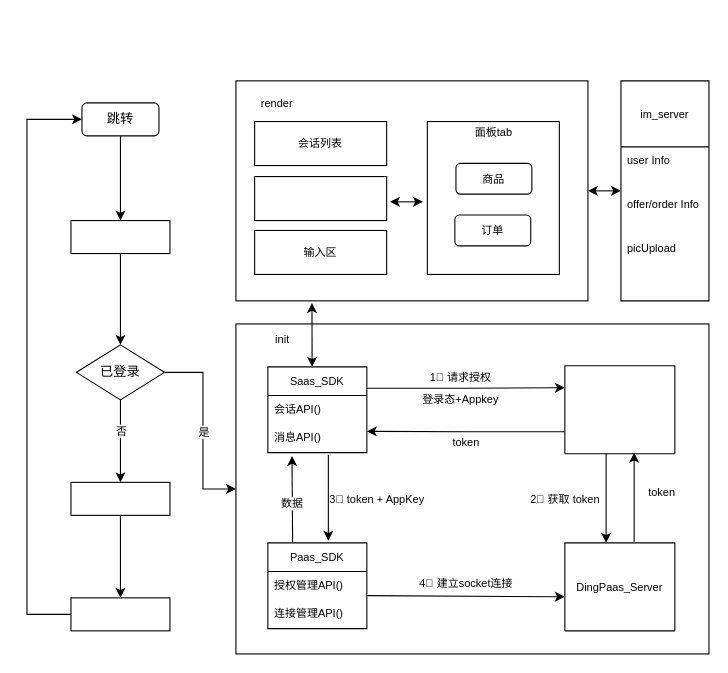
This 728x673 diagram has some shape labels left out. The centre of each missing label's shape, as x and y in pixels:
"User.getUserInfo" belongs at point 120,236.
"WangSaas_Server" belongs at point 619,409.
"消息列表" belongs at point 320,198.
"登录完成" belongs at point 120,614.
"重定向1688登录" belongs at point 120,498.
